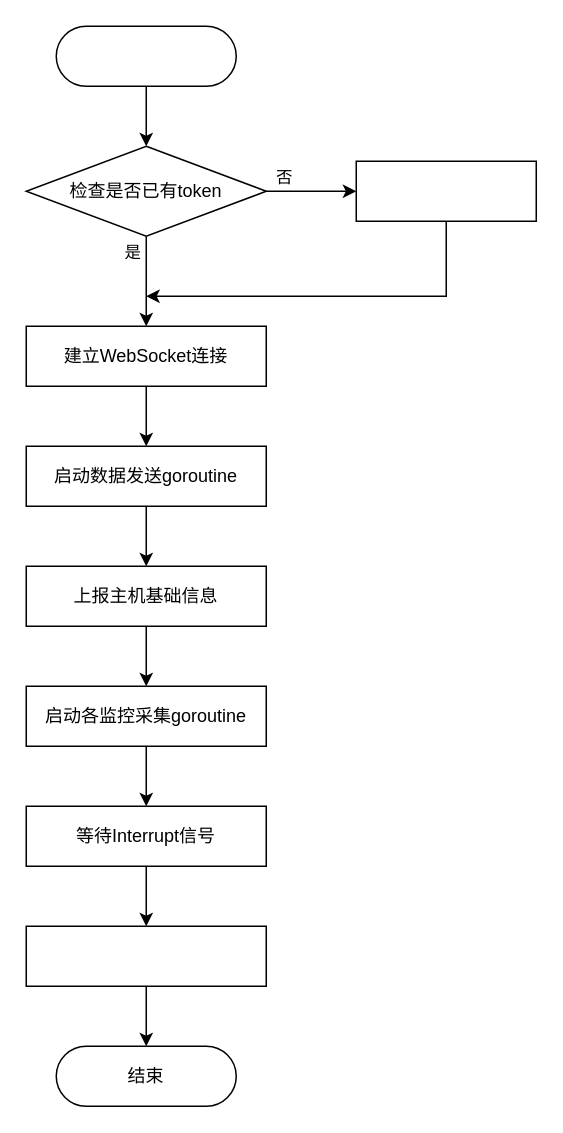
Image size: 563x1133. Some labels were removed from this diagram. The shapes that lost their labels are listed below. From the top down, each one's centre as x and y in pixels, then its label:
the point at 145,55: 开始
the point at 445,190: 申请token
the point at 145,955: 通知并等待goroutine结束
